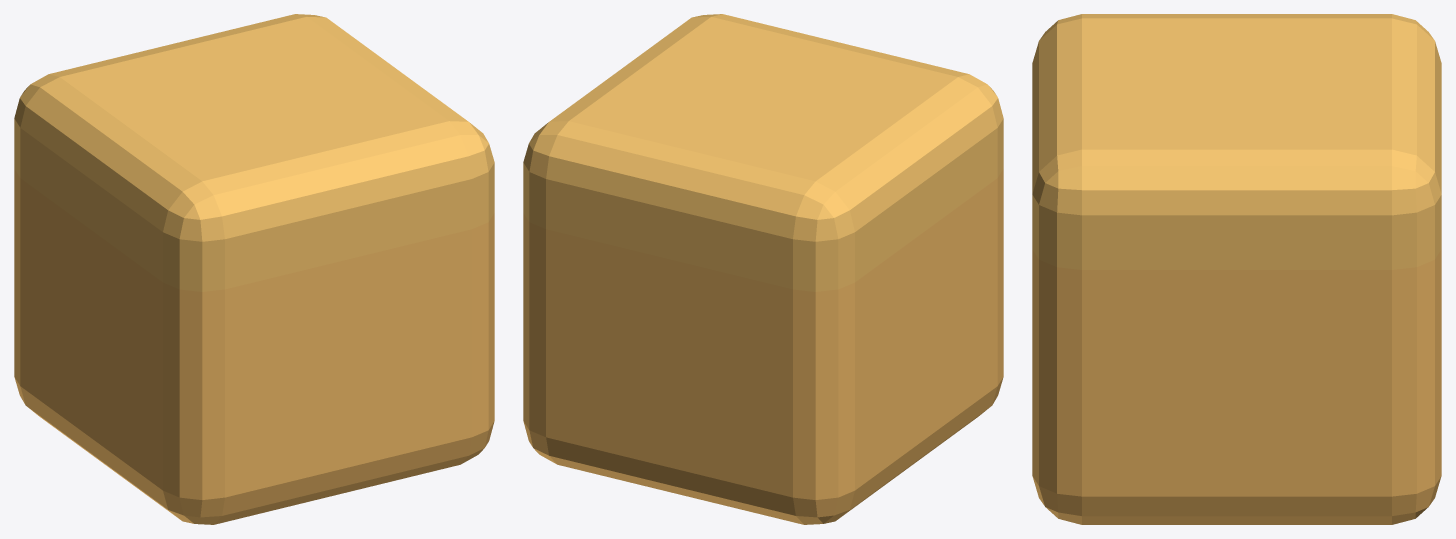
File: desert cliff 1.fbx
The picture shows the model from 3 angles, left to right: view 1: azimuth 30°, elevation 25°; view 2: azimuth 150°, elevation 25°; view 3: azimuth 270°, elevation 25°; orthographic projection. The views are drawn at different scales.
Parts seen in each view (by area): view 1: grounf desert cliff1; view 2: grounf desert cliff1; view 3: grounf desert cliff1.
Boxes of the visible parts, x1,y1,x2,y2 form: grounf desert cliff1: (14, 14, 494, 524); grounf desert cliff1: (523, 14, 1003, 524); grounf desert cliff1: (1032, 14, 1441, 524).
Size of the model in its own units: 100 by 100 by 100.
